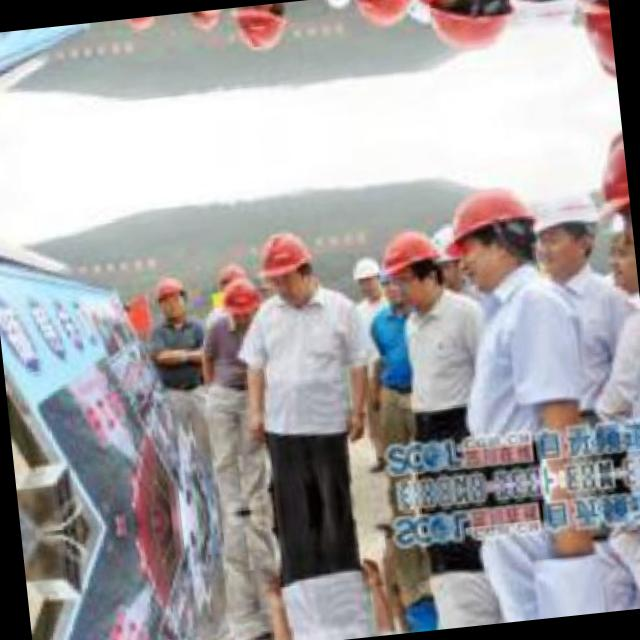helmet: (447, 172, 542, 286), (518, 172, 603, 278), (388, 217, 457, 309), (426, 0, 521, 64), (258, 226, 322, 304), (496, 0, 580, 50), (233, 1, 296, 53), (211, 264, 262, 322), (346, 243, 388, 300), (362, 0, 428, 35), (148, 270, 190, 324), (184, 8, 233, 26), (320, 0, 361, 19), (120, 15, 160, 34)
